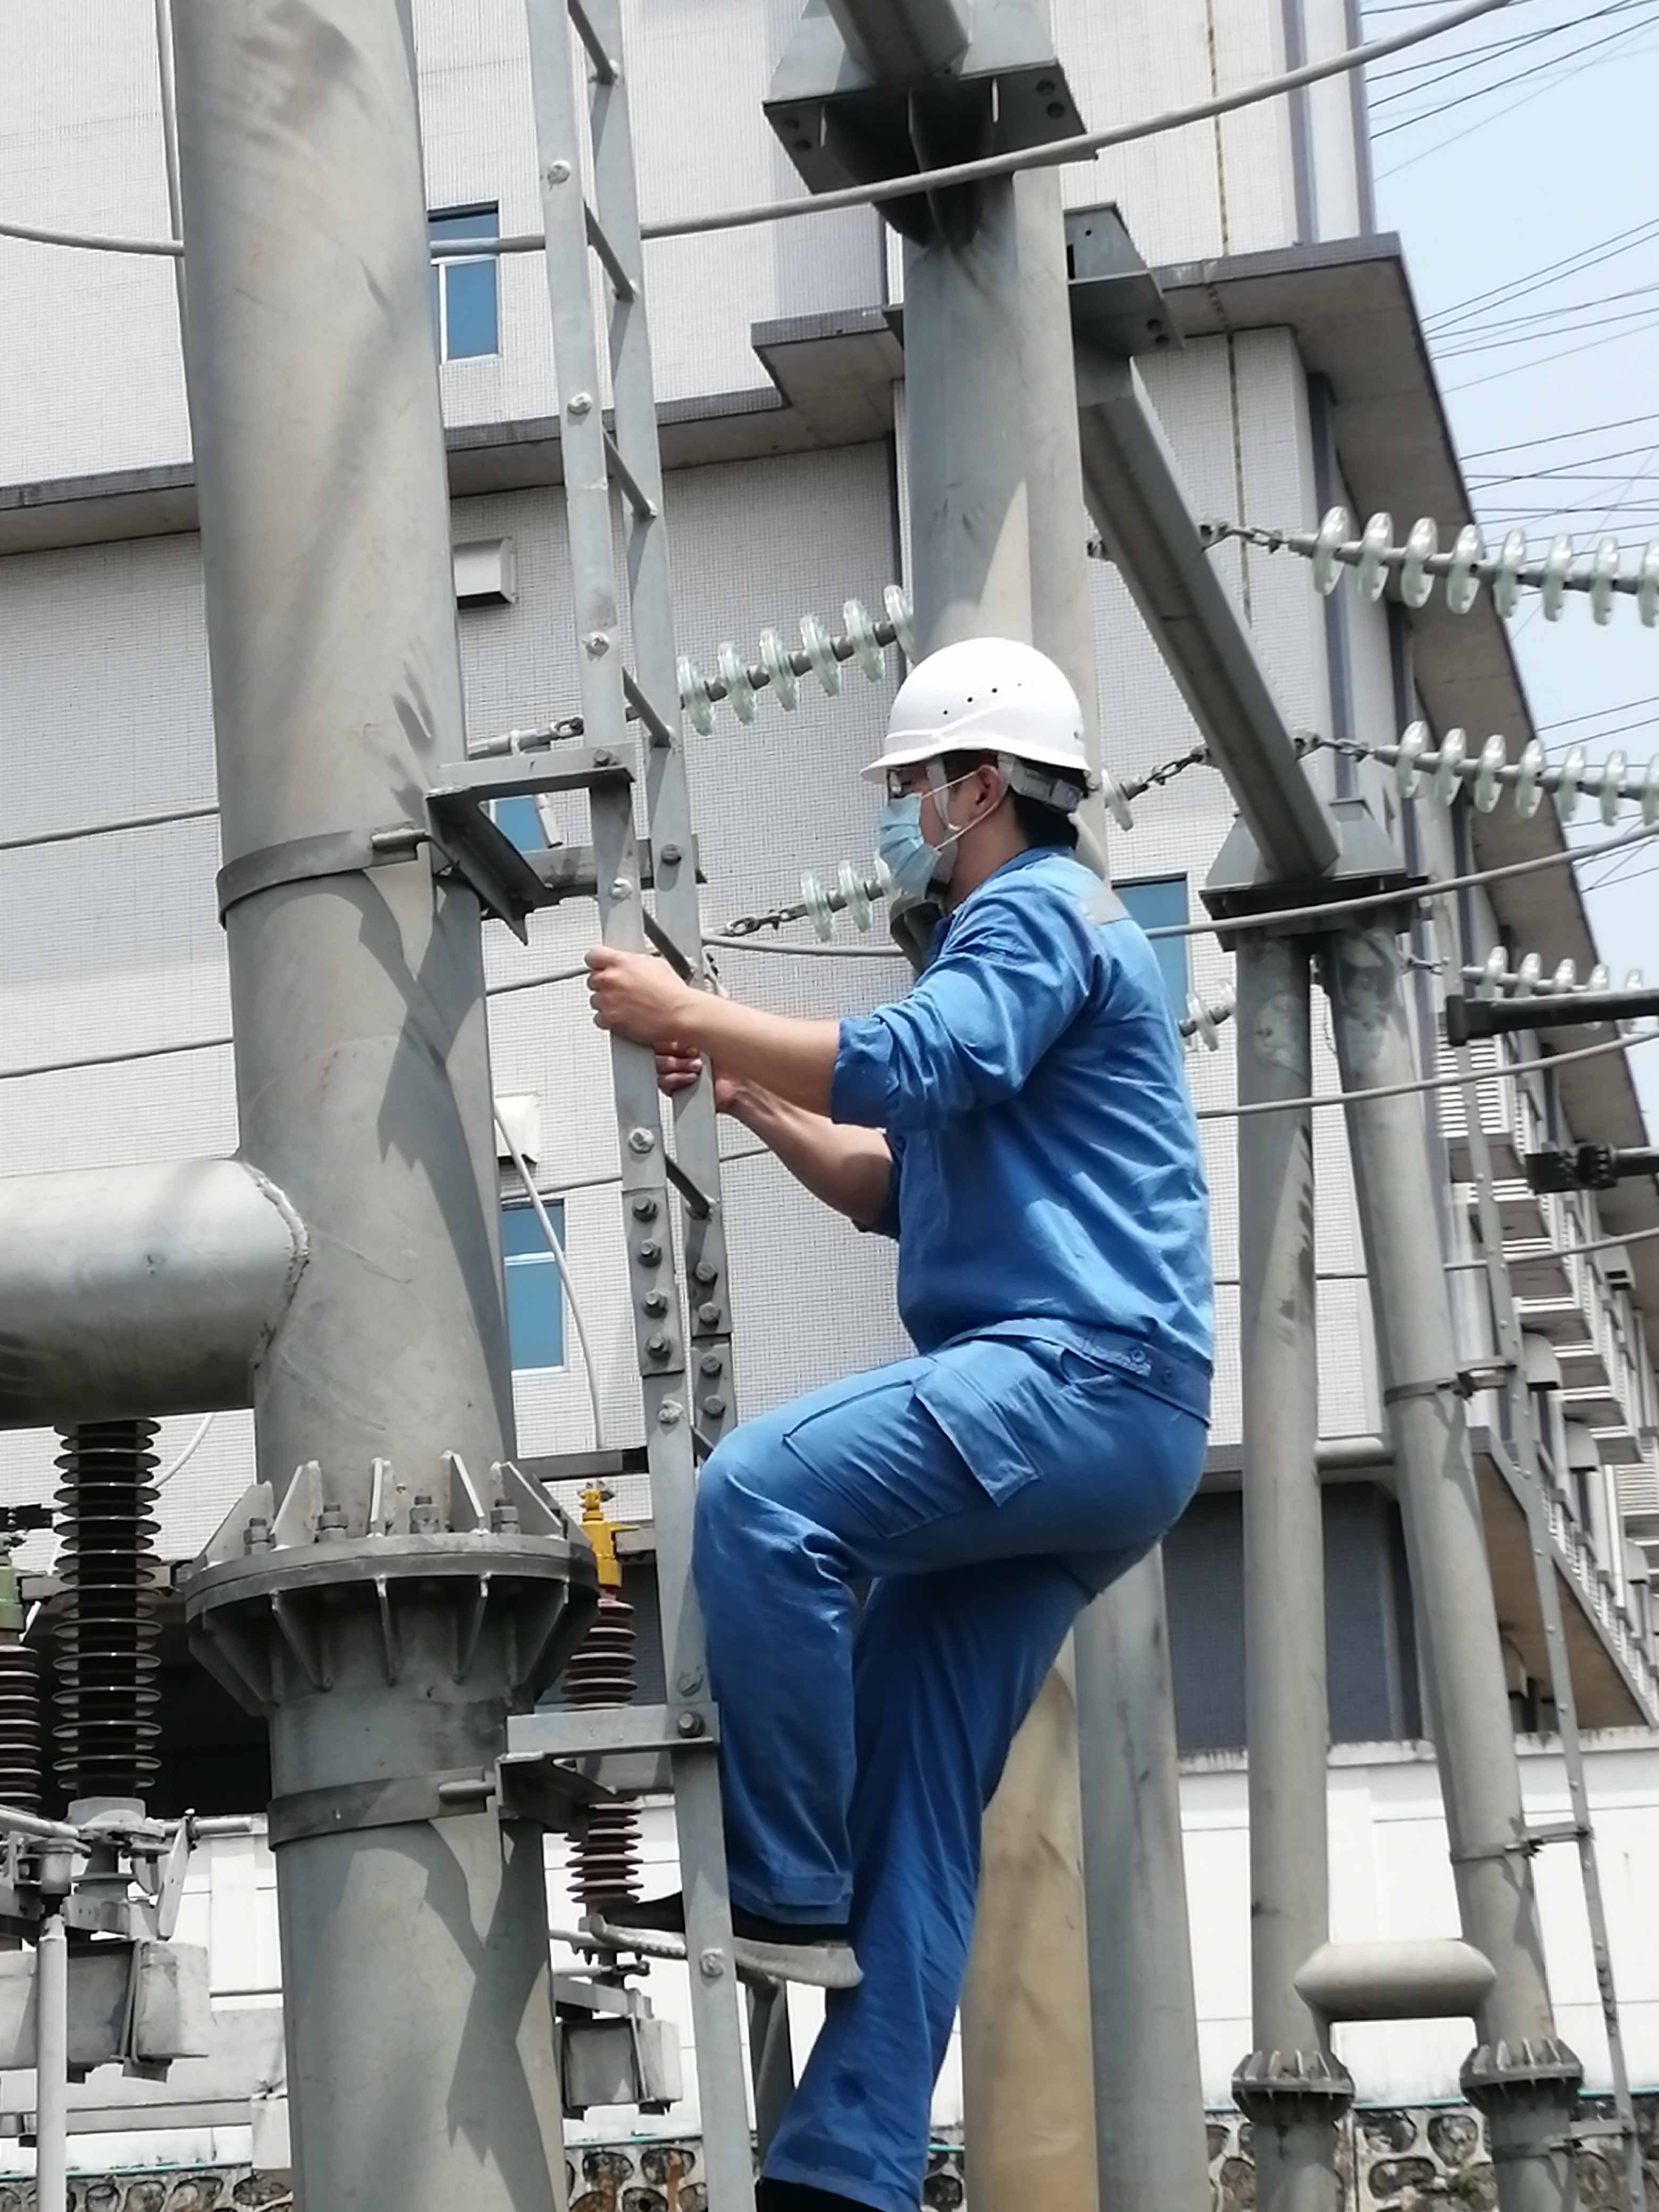downsuit: (688, 1381, 1213, 2153)
upsuit: (803, 833, 1232, 1383)
wrongtop: (584, 944, 925, 1123)
